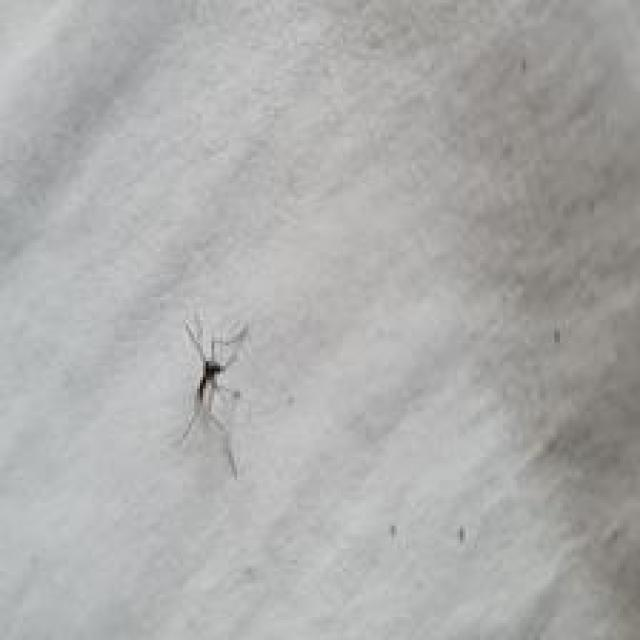Aedes albopictus: (173, 313, 250, 478)
